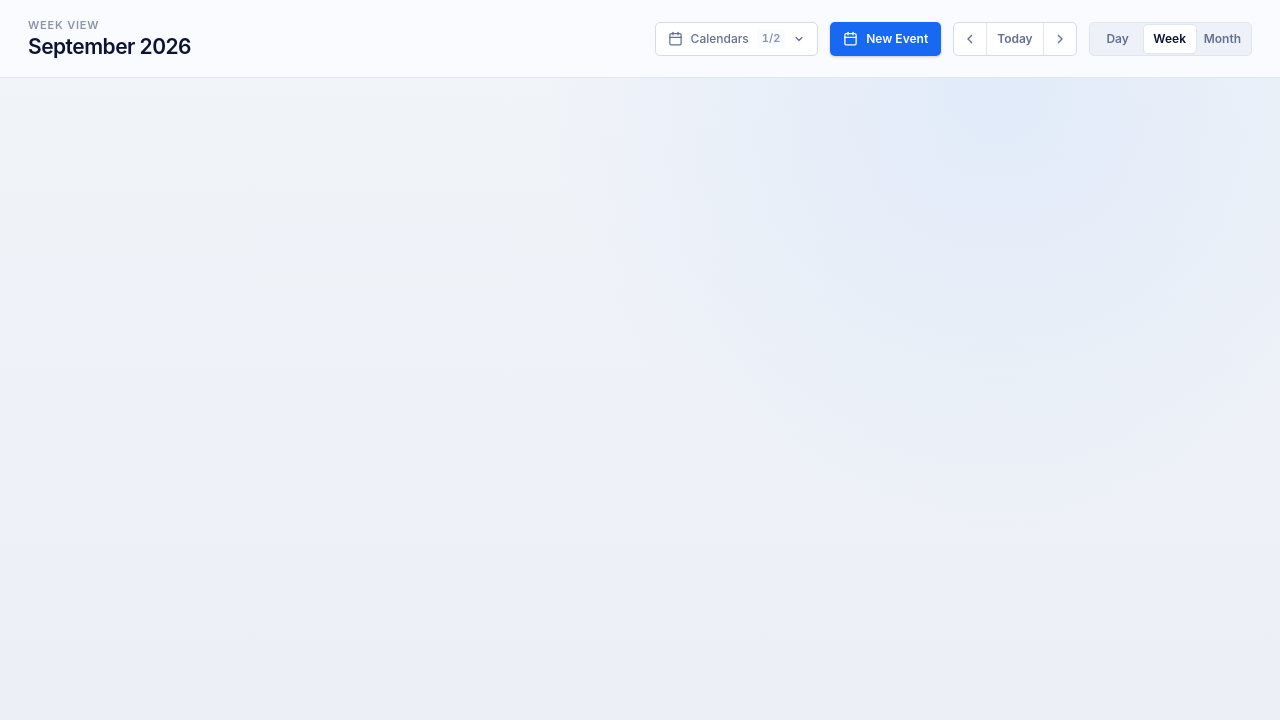
CalendarToolbar calendars menu › opens with the visible count, calendar rows and time zone
The image size is (1280, 720).
Click the button with aria-label "Filter calendars". click: x=736, y=38
box: [655, 22, 818, 56]
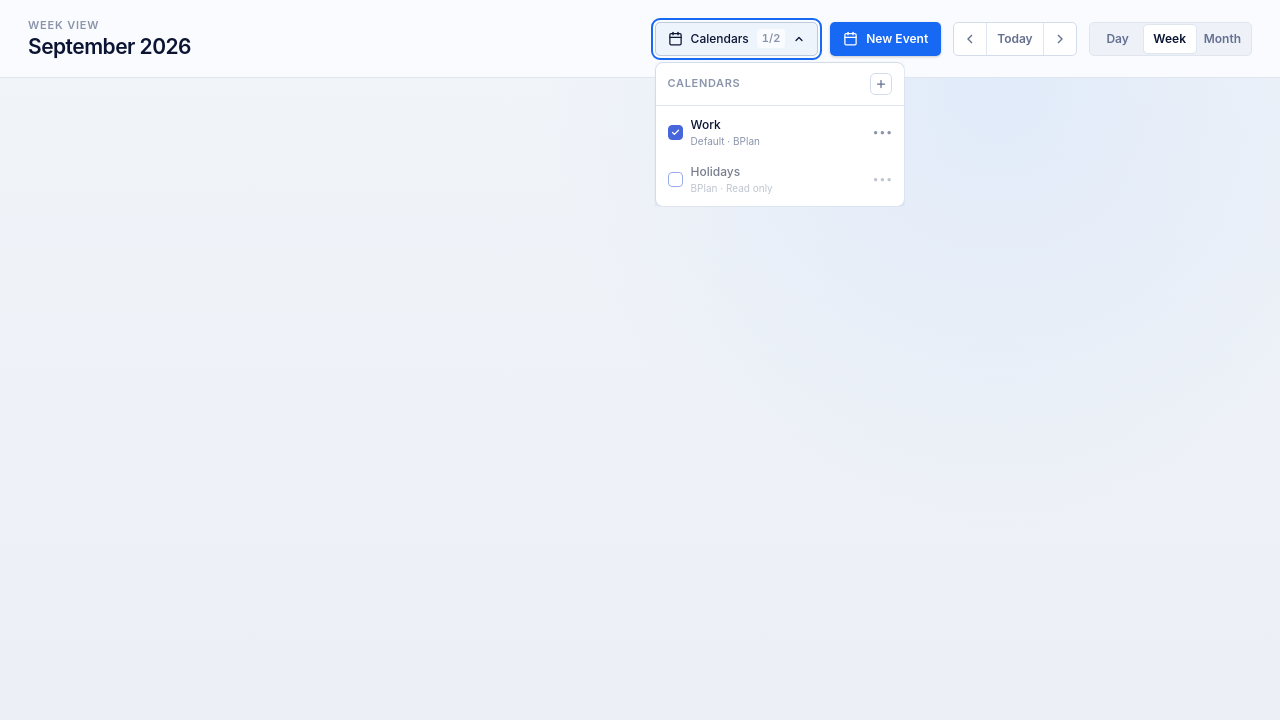
Now the button with aria-label "Filter calendars" is expanded, box [655, 22, 818, 56]
Now the dialog named "My calendars" shows "Default · BPlan", box [655, 62, 905, 206]
Now the dialog named "My calendars" shows "BPlan · Read only", box [655, 62, 905, 206]
